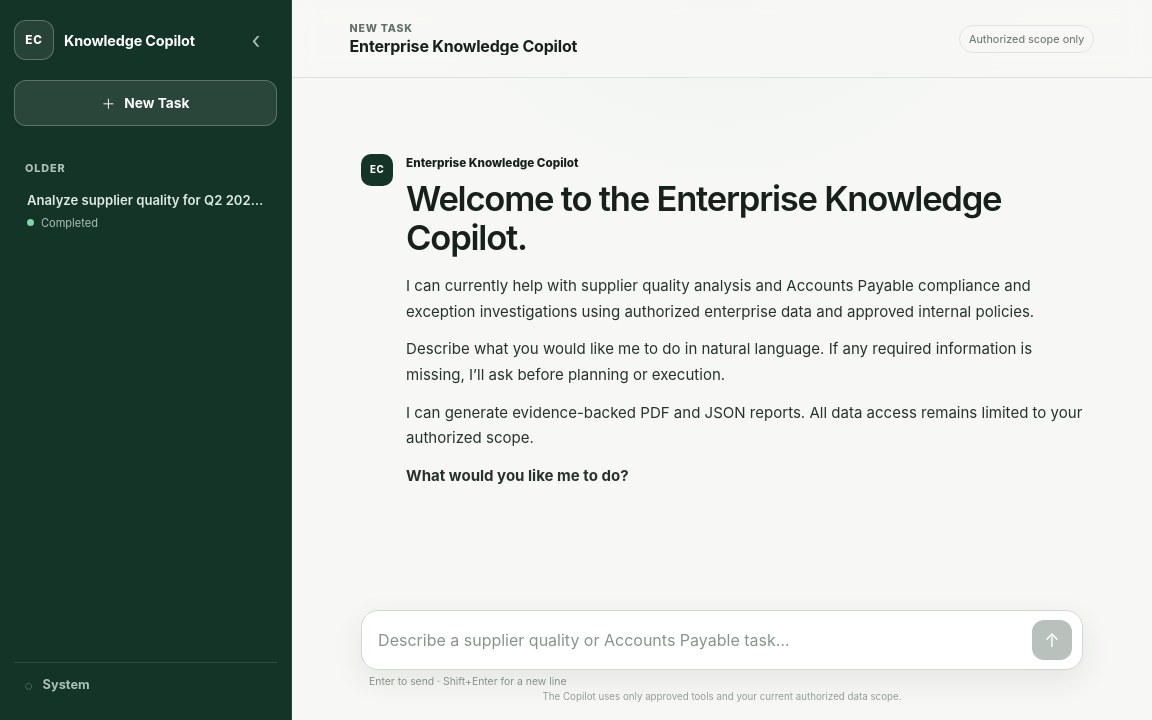
Test case: Chat-first Task Workspace › preserves a rejected draft and renders the typed unsupported response
The width and height of the screenshot is (1152, 720).
In the text box named "Message the Enterprise Knowledge Copilot": [700, 640] box [378,621,1022,660], type "Send an email to a supplier."
Then press Enter
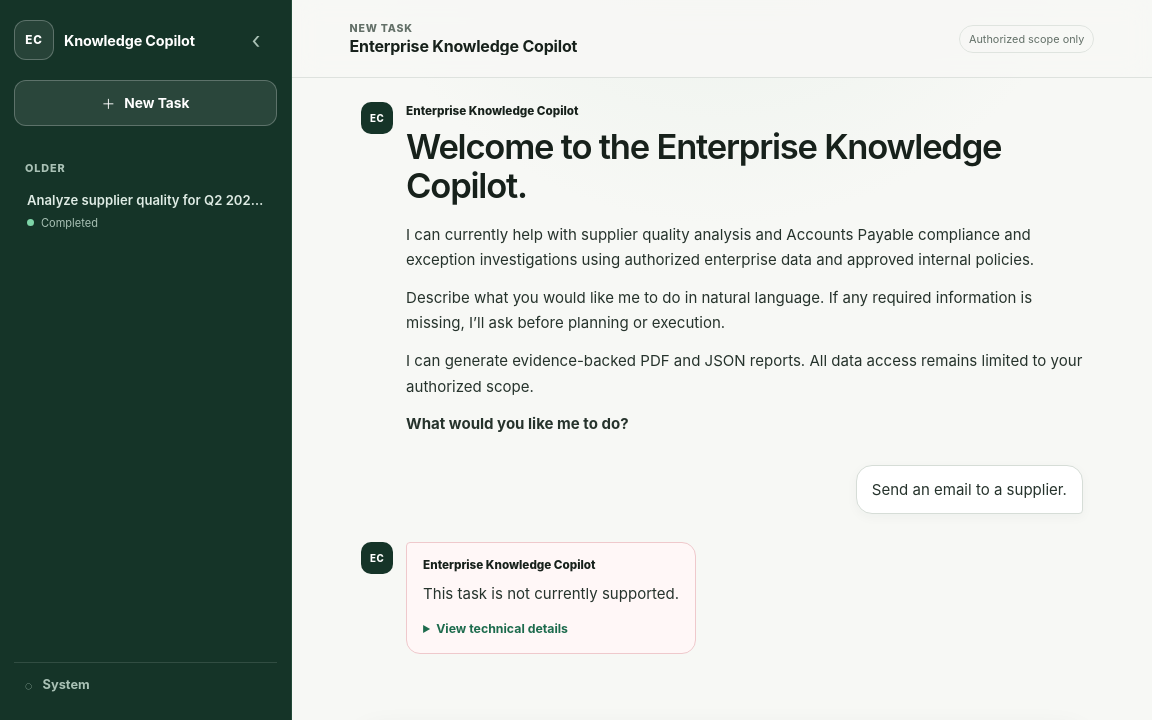
Expected: the text "This task is not currently supported." is shown, [423,581,679,607]
